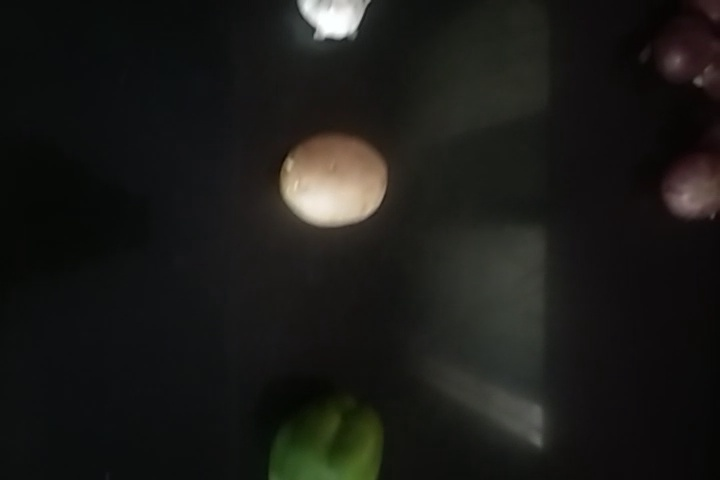capsicum: (251, 387, 393, 480)
garlic: (298, 1, 366, 56)
onion: (664, 142, 720, 224), (652, 13, 715, 85)
potato: (274, 133, 388, 224)
